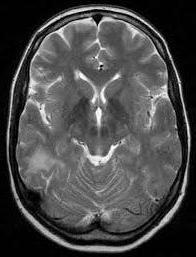Normal_Brain: (1, 1, 190, 257)
